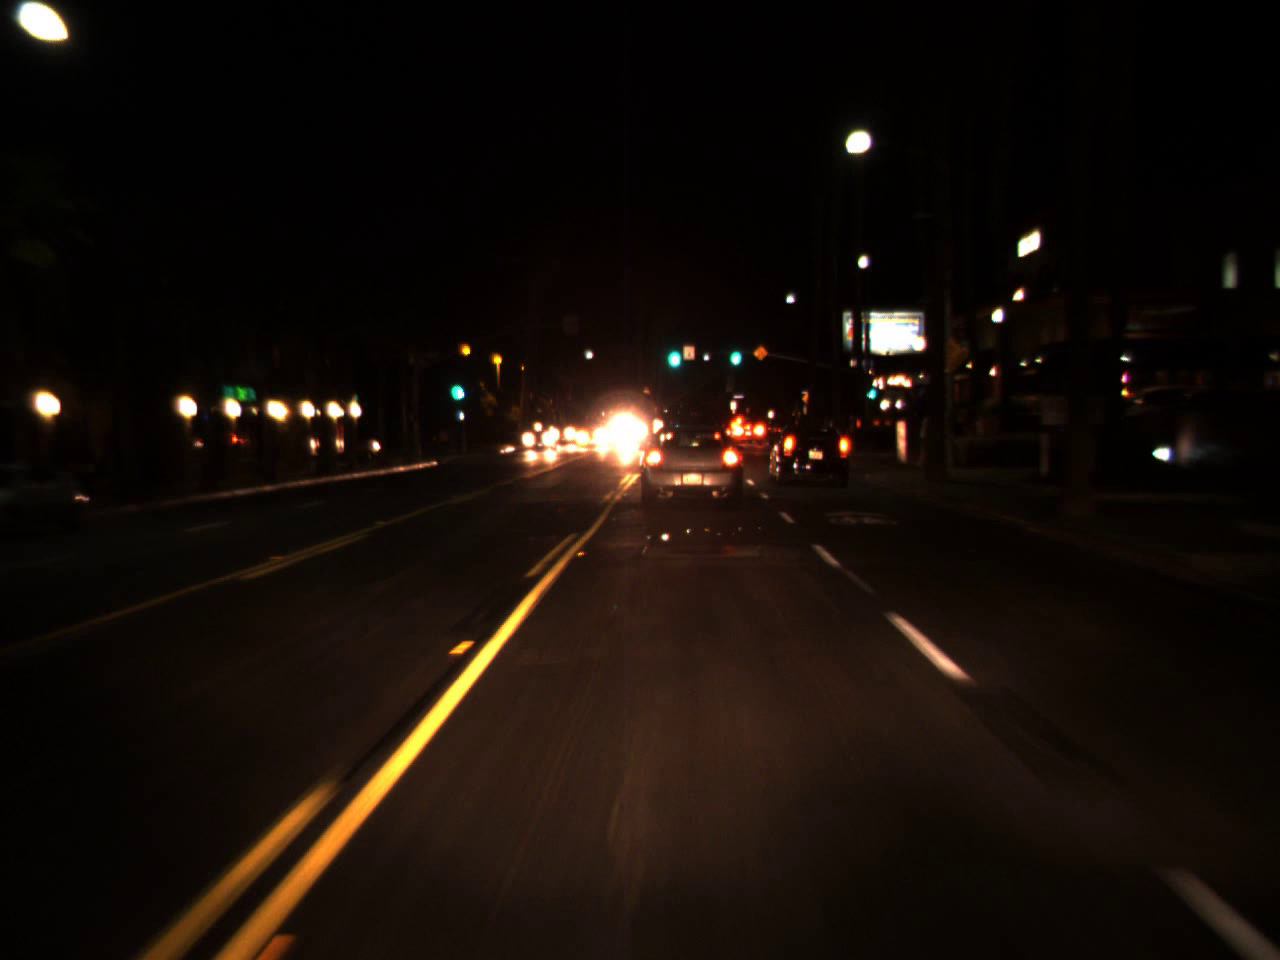go: (663, 331, 682, 373), (861, 371, 879, 404), (448, 365, 462, 407), (726, 338, 744, 365)
